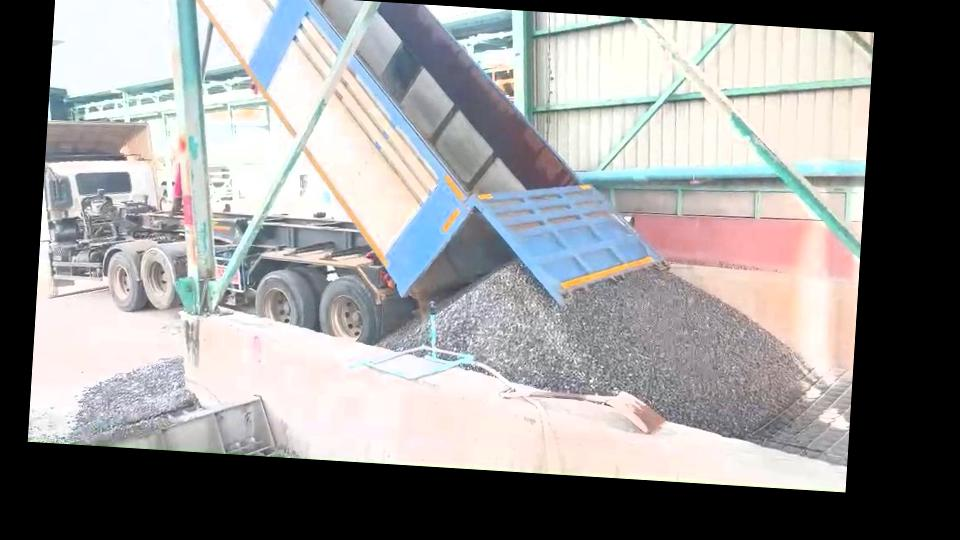gravel: (437, 262, 808, 437), (65, 357, 197, 442), (380, 320, 428, 350)
